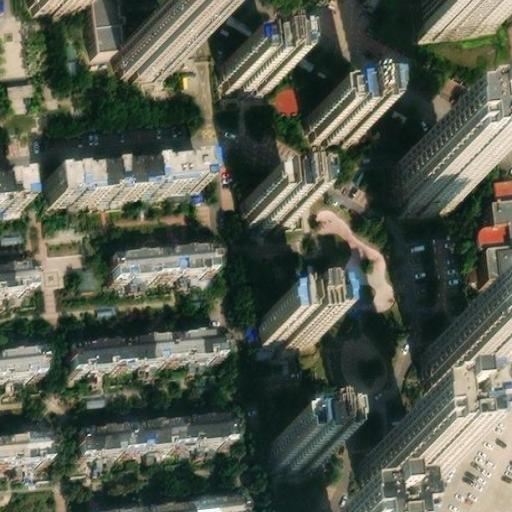building: (48, 156, 209, 199), (80, 412, 238, 454), (72, 328, 231, 369), (381, 154, 450, 217), (422, 338, 488, 398), (362, 444, 427, 504), (110, 245, 221, 278), (421, 234, 458, 318), (110, 35, 178, 74), (257, 305, 321, 345), (479, 173, 512, 249), (270, 425, 331, 466), (302, 104, 366, 139), (243, 187, 303, 221), (226, 49, 284, 83), (0, 434, 46, 469), (141, 497, 239, 511), (0, 349, 39, 384), (0, 80, 33, 114), (0, 264, 28, 297)
